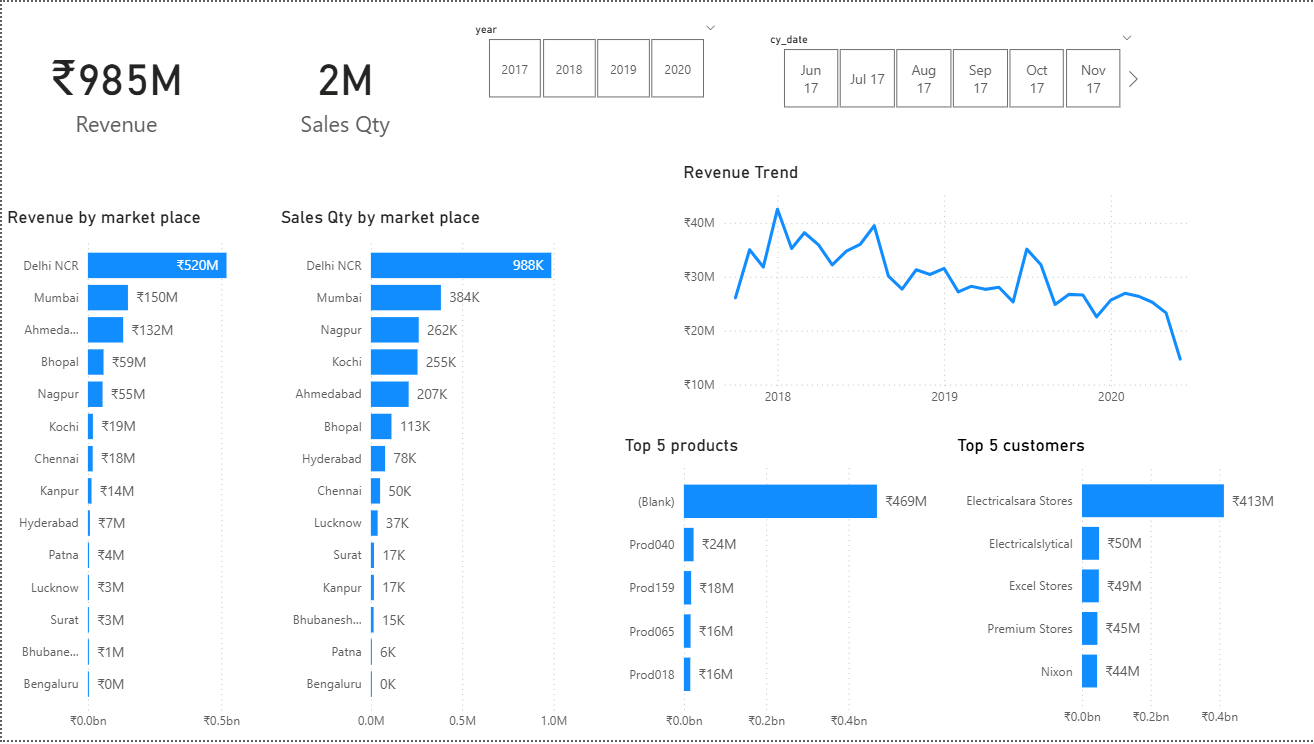

Layout of this report page (visuals, bound fields, positions):
{"tool":"powerbi","page":{"name":"Key Insights","canvas":[1280,720],"ordinal":0},"visuals":[{"type":"card","fields":{"Values":["BaseMeasures.Revenue"]},"box":[0,0,223.7,171.5],"z":0},{"type":"card","fields":{"Values":["BaseMeasures.Sales Qty"]},"box":[223.7,0,223.7,171.5],"z":1000},{"type":"barChart","title":"Revenue by market place","fields":{"Y":["BaseMeasures.Revenue"],"Category":["sales markets.markets_name"]},"box":[0,200,285,520],"z":2000},{"type":"barChart","title":"Sales Qty by market place","fields":{"Y":["BaseMeasures.Sales Qty"],"Category":["sales markets.markets_name"]},"box":[267.5,200,320,520],"z":3000},{"type":"slicer","fields":{"Values":["sales date.year"]},"box":[448.6,14.3,260,85.7],"z":4000},{"type":"slicer","fields":{"Values":["sales date.cy_date"]},"box":[737.1,24.3,378.6,85.7],"z":5000},{"type":"barChart","title":"Top 5 customers","fields":{"Y":["BaseMeasures.Revenue"],"Category":["sales customers.custmer_name"]},"box":[926.2,422.5,340,293.8],"z":6000},{"type":"barChart","title":"Top 5 products","fields":{"Y":["BaseMeasures.Revenue"],"Category":["sales products.product_code"]},"box":[602.5,422.5,323.8,297.5],"z":7000},{"type":"lineChart","title":"Revenue Trend","fields":{"Y":["BaseMeasures.Revenue"],"Category":["sales date.cy_date"]},"box":[659.9,155.6,507.9,247.3],"z":8000}]}

Visuals, with their boxes in screenshot pixels (x1, y1, x2, y2), scaled from the page's 1280x720 canvas onto the 1314x744 screenshot:
card - BaseMeasures.Revenue: 0,0,230,177
card - BaseMeasures.Sales Qty: 230,0,459,177
"Revenue by market place" barChart: 0,207,293,743
"Sales Qty by market place" barChart: 275,207,603,743
slicer - sales date.year: 461,15,727,103
slicer - sales date.cy_date: 757,25,1145,114
"Top 5 customers" barChart: 951,437,1300,740
"Top 5 products" barChart: 619,437,951,743
"Revenue Trend" lineChart: 677,161,1199,416
